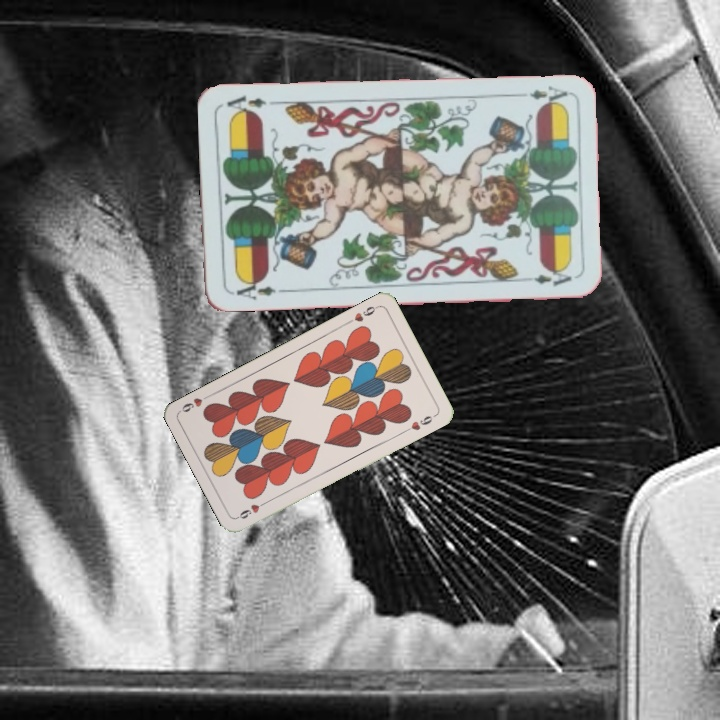EA: (512, 81, 570, 109), (227, 275, 278, 303)
H9: (343, 302, 381, 326), (233, 497, 271, 521)
